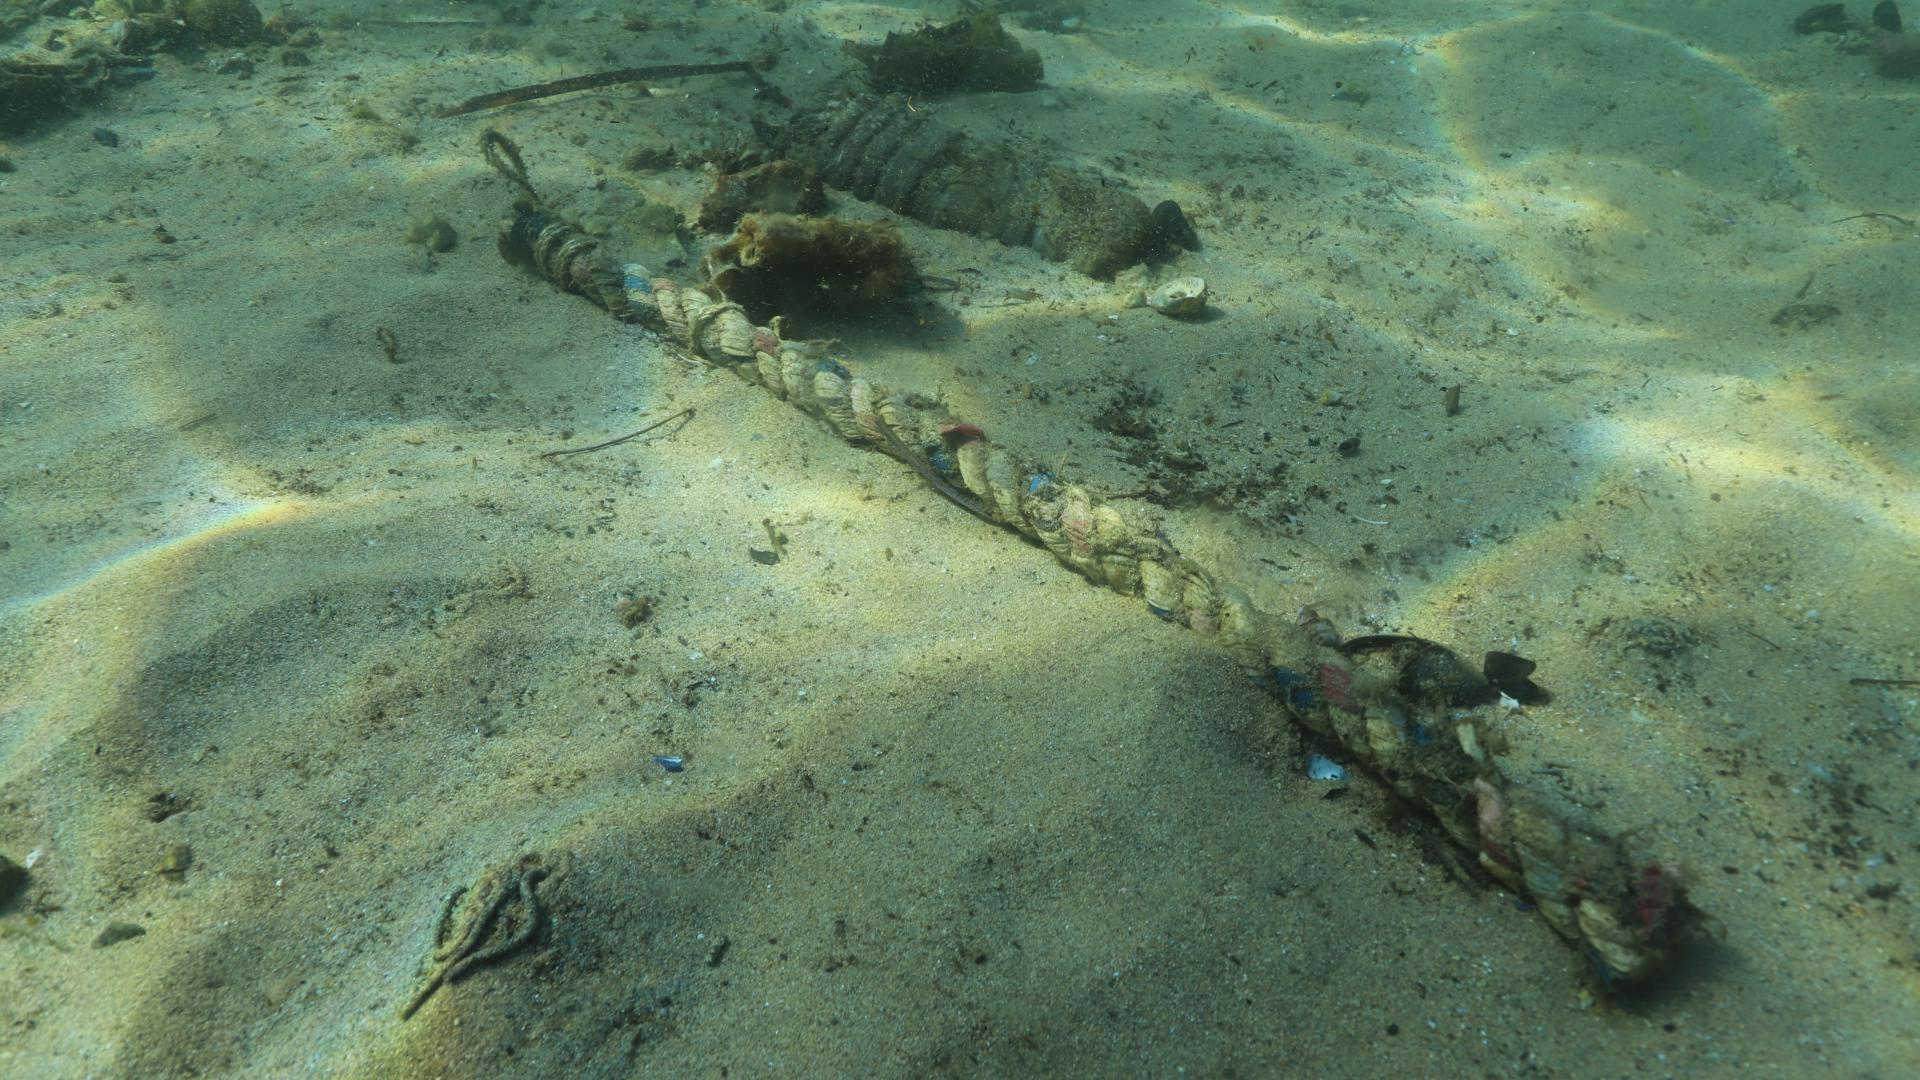rope: (492, 200, 1706, 988)
